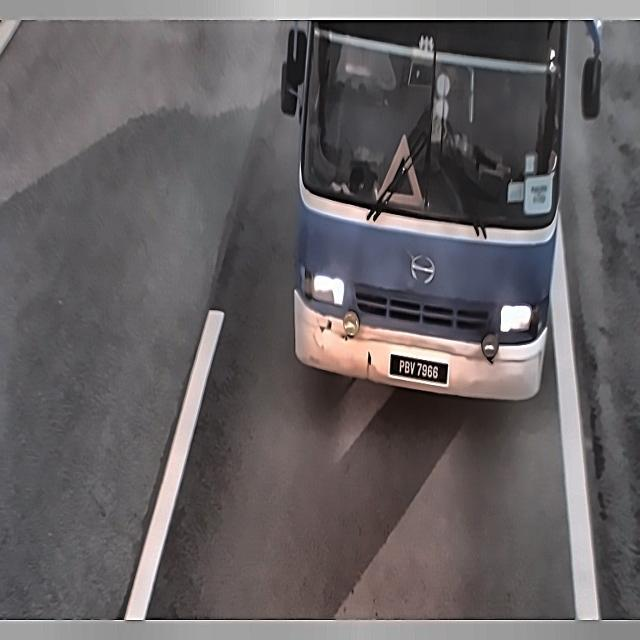car: (384, 345, 452, 396)
